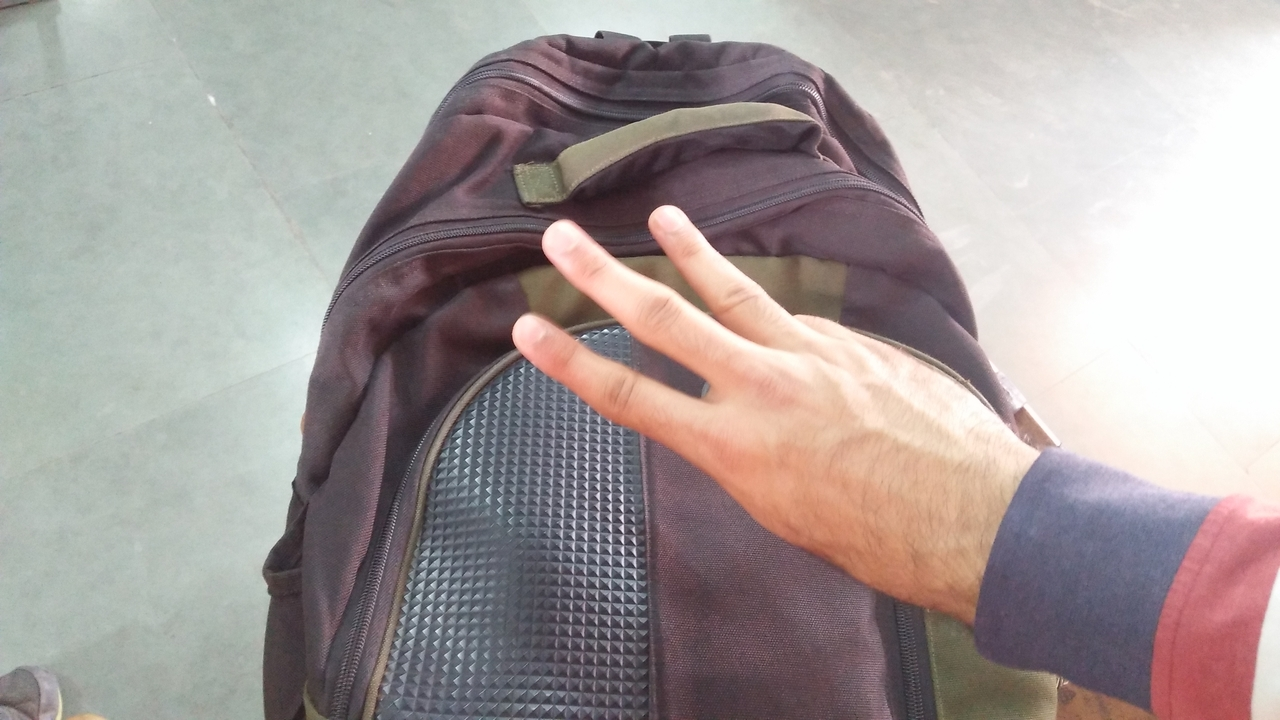fingertip: (536, 212, 608, 274), (642, 194, 714, 252), (502, 308, 572, 364)
